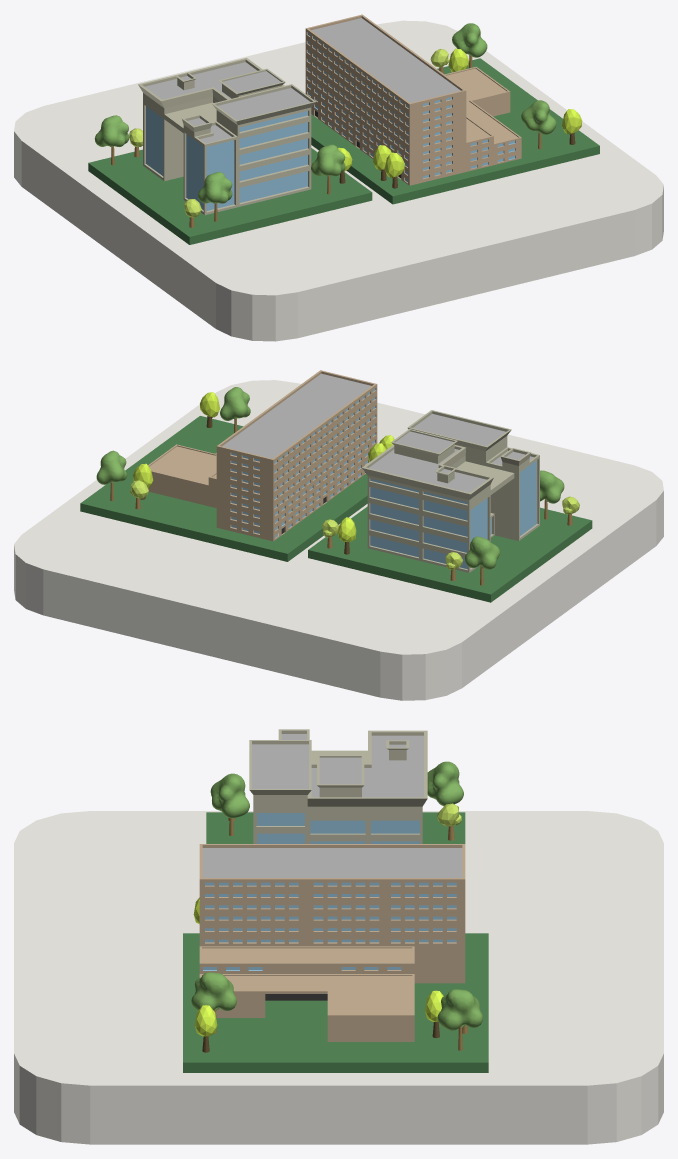
The picture shows the model from 3 angles, top to bottom: view 1: azimuth 30°, elevation 25°; view 2: azimuth 150°, elevation 25°; view 3: azimuth 270°, elevation 25°; orthographic projection. The views are drawn at different scales.
Parts seen in each view (by area): view 1: Cube, 電資學院2, 電資學院1, Plane.004, Plane.001, Cylinder.703, Cylinder.699, Cylinder.700, Cylinder.782, Cylinder.780; view 2: Cube, 電資學院2, 電資學院1, Plane.001, Plane.004, Cylinder.700, Cylinder.780, Cylinder.782, Cylinder.699; view 3: Cube, 電資學院2, 電資學院1, Plane.001, Plane.004, Cylinder.780, Cylinder.699, Cylinder.782, Cylinder.700, Cylinder.1024.
Boxes of the visible parts, x1,y1,x2,y2 form: Cube: (14, 20, 663, 341); 電資學院2: (305, 14, 521, 185); 電資學院1: (138, 57, 315, 215); Plane.004: (88, 148, 372, 244); Plane.001: (311, 58, 599, 204); Cylinder.703: (311, 144, 345, 194); Cylinder.699: (198, 172, 232, 221); Cylinder.700: (94, 115, 129, 165); Cylinder.782: (521, 100, 556, 149); Cylinder.780: (452, 23, 487, 68); Cube: (14, 380, 663, 700); 電資學院2: (148, 370, 377, 541); 電資學院1: (362, 410, 539, 572); Plane.001: (80, 416, 367, 561); Plane.004: (308, 506, 592, 602); Cylinder.700: (465, 536, 499, 585); Cylinder.780: (96, 450, 127, 500); Cylinder.782: (220, 387, 250, 432); Cylinder.699: (540, 470, 564, 519); Cube: (14, 811, 663, 1144); 電資學院2: (199, 844, 465, 1041); 電資學院1: (249, 729, 427, 843); Plane.001: (183, 933, 488, 1072); Plane.004: (206, 812, 465, 843); Cylinder.780: (437, 989, 482, 1050); Cylinder.699: (210, 773, 249, 835); Cylinder.782: (191, 972, 236, 1033); Cylinder.700: (427, 761, 463, 806); Cylinder.1024: (194, 1005, 217, 1052).
Size of the model in its own units: 17 by 5.29 by 17.
